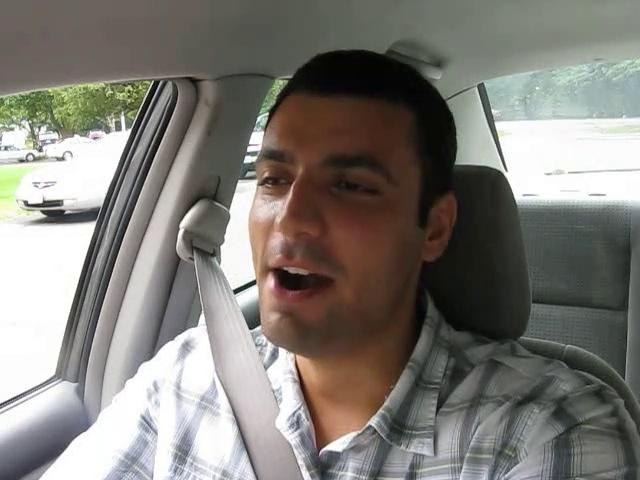close_eyeL: (240, 164, 301, 206)
close_eyeR: (313, 165, 398, 211)
yawn: (250, 253, 350, 311)
